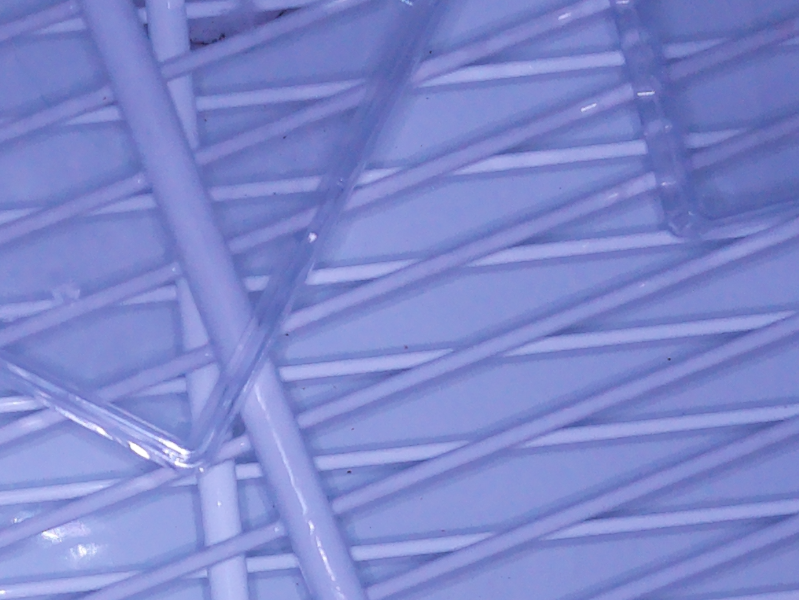plate: (1, 1, 444, 482), (608, 1, 799, 241)
